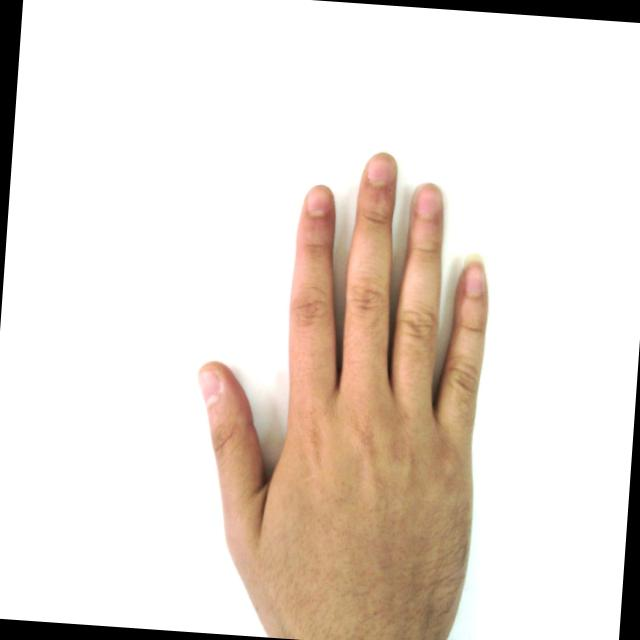Nail: (462, 252, 486, 296), (366, 151, 396, 183), (413, 183, 441, 217), (196, 368, 218, 408), (304, 184, 329, 215)
